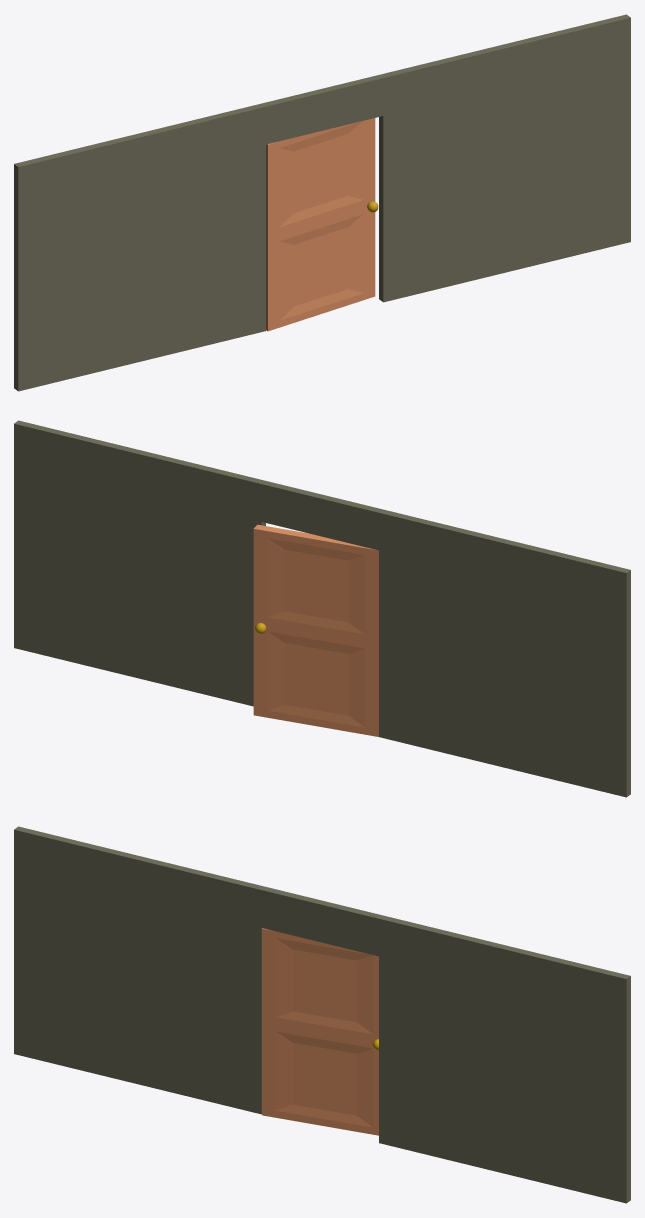
The model's file is WallDoor.fbx.
The picture shows the model from 3 angles, top to bottom: view 1: azimuth 30°, elevation 25°; view 2: azimuth 150°, elevation 25°; view 3: azimuth 330°, elevation 25°; orthographic projection.
Visible parts, largest first — view 1: WallDoor, Door; view 2: WallDoor, Door; view 3: WallDoor, Door.
Boxes of the visible parts, box(x1,y1,x2,y2) form: WallDoor: box(14, 14, 630, 391); Door: box(266, 118, 375, 331); WallDoor: box(14, 420, 630, 797); Door: box(253, 524, 378, 736); WallDoor: box(14, 826, 630, 1203); Door: box(262, 928, 378, 1135).
Size of the model in its own units: 2000 by 700 by 109.
